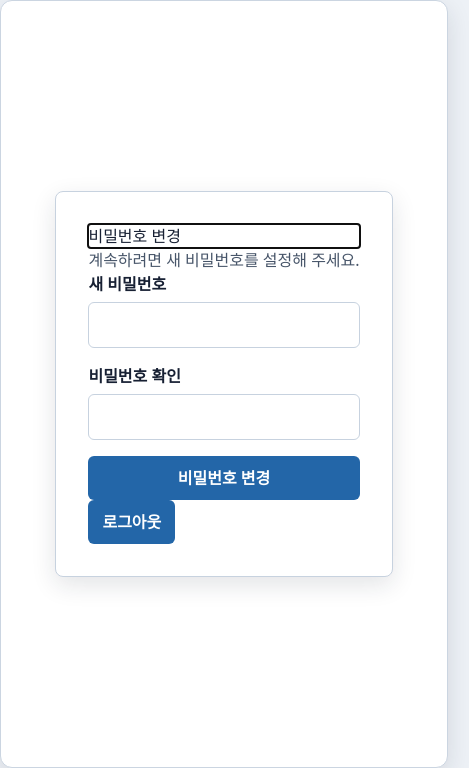
Test: App authentication guard › keeps the forced password-change screen and shows a logout failure
What coordinates should you click on to do the following:
click the button "로그아웃"
I would click on:
 (132, 522)
Its box is x1=88 y1=500 x2=175 y2=544.
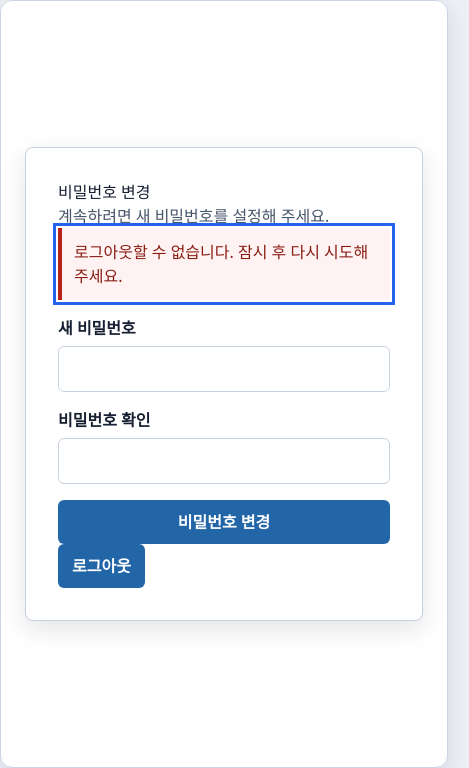
expect the heading "비밀번호 변경" is shown: met, box x1=58 y1=181 x2=150 y2=203
expect the message reads "로그아웃할 수 없습니다. 잠시 후 다시 시도해 주세요.": met, box x1=74 y1=241 x2=368 y2=287
